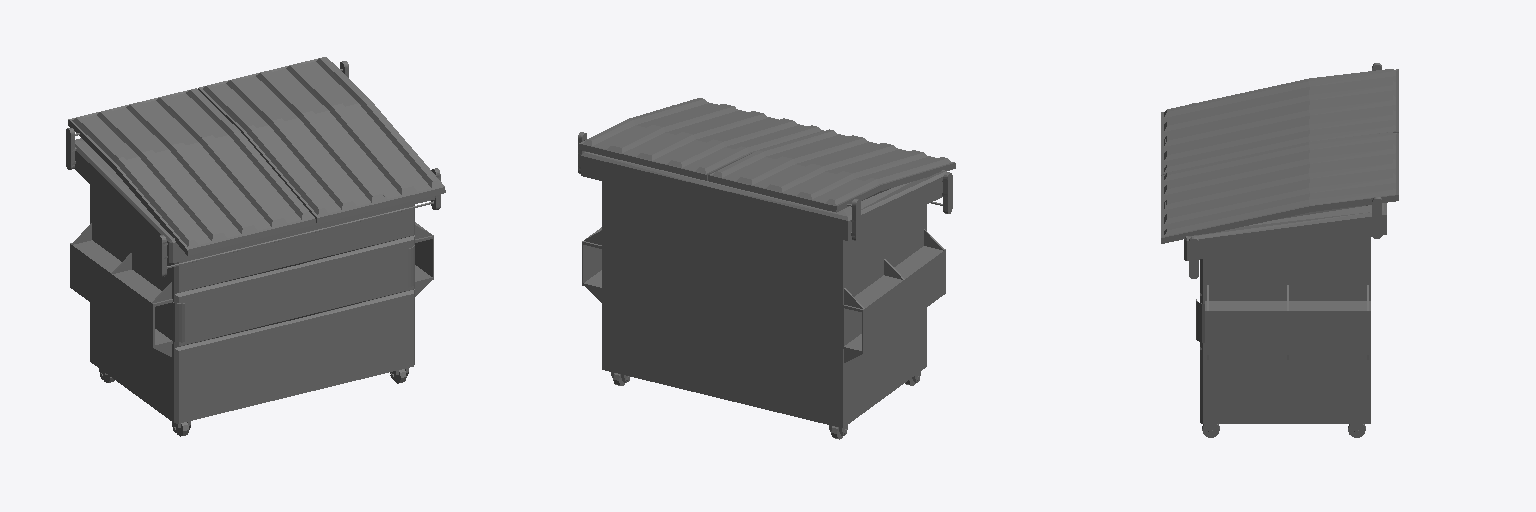
The model's file is Dumpster.obj.
The picture shows the model from 3 angles: view 1: azimuth 30°, elevation 25°; view 2: azimuth 150°, elevation 25°; view 3: azimuth 270°, elevation 25°; orthographic projection.
Parts seen in each view (by area): view 1: Box013, Plane023, Plane022; view 2: Box013, Plane023, Plane022; view 3: Box013, Plane022, Plane023.
Boxes of the visible parts, x1,y1,x2,y2 form: Box013: [66, 61, 440, 436]; Plane023: [68, 88, 315, 255]; Plane022: [198, 57, 445, 223]; Box013: [578, 105, 952, 439]; Plane023: [708, 129, 955, 212]; Plane022: [578, 98, 823, 180]; Box013: [1184, 63, 1386, 437]; Plane022: [1161, 132, 1398, 243]; Plane023: [1161, 69, 1398, 175].
Size of the model in its own units: 2.08 by 1.8 by 1.53.